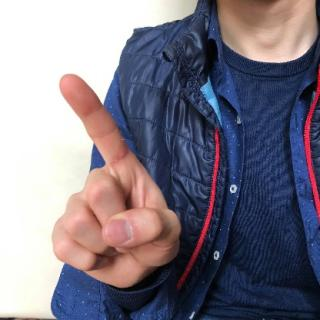BAA: (46, 70, 182, 293)
